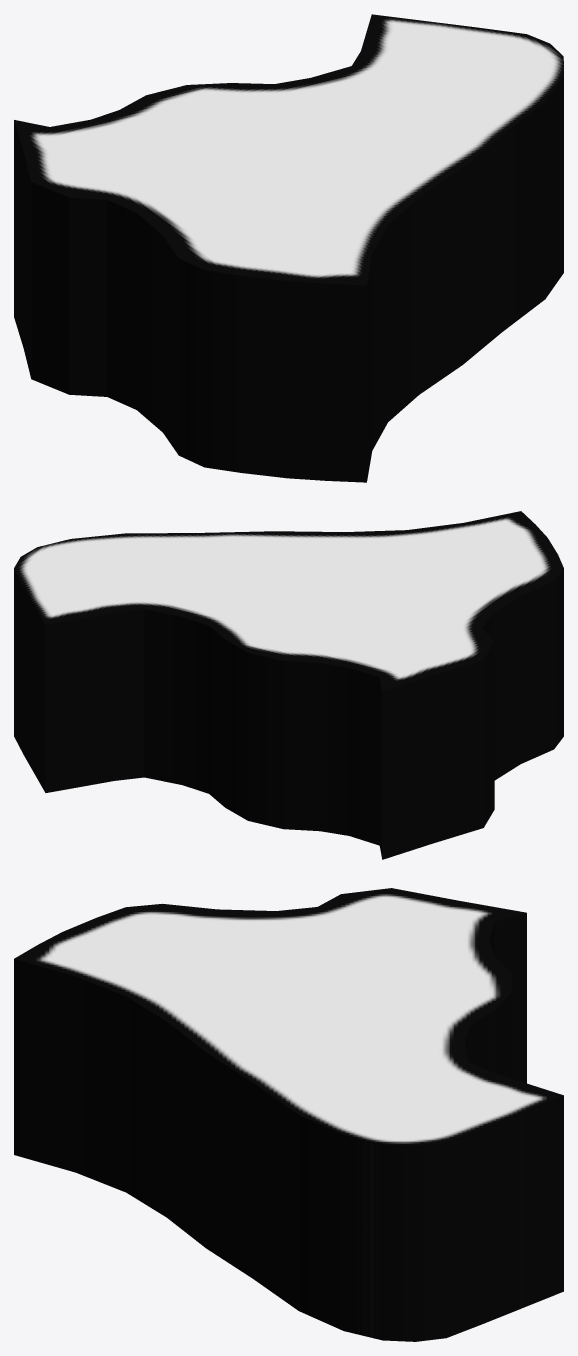
3 views of the same model, one above another, from view 1: azimuth 30°, elevation 25°; view 2: azimuth 150°, elevation 25°; view 3: azimuth 270°, elevation 25° (orthographic). The views are drawn at different scales.
Parts seen in each view (by area): view 1: polySurface44; view 2: polySurface44; view 3: polySurface44.
Boxes of the visible parts, box(x1,y1,x2,y2) form: polySurface44: box(14, 14, 563, 482); polySurface44: box(14, 511, 563, 859); polySurface44: box(14, 888, 563, 1341).
Bounding box in the file's own units: 1.41 × 0.5 × 1.27.
